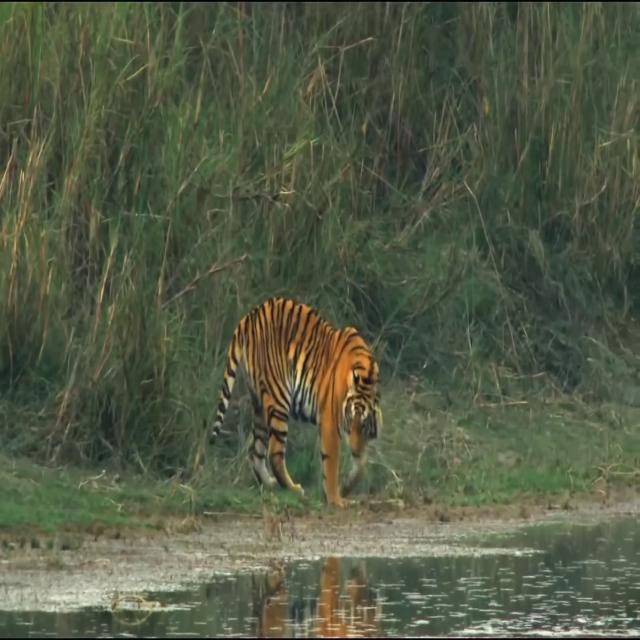tiger: (210, 294, 383, 509)
